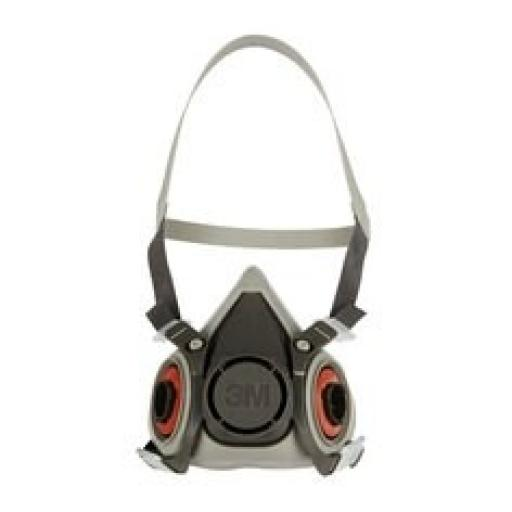mask: (125, 260, 380, 498)
